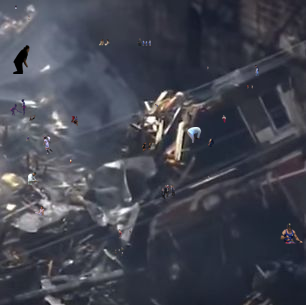Human: (12, 45, 30, 74), (26, 135, 53, 154), (280, 223, 303, 244), (28, 171, 54, 185), (114, 247, 148, 256), (10, 99, 26, 116), (187, 127, 203, 143), (161, 184, 177, 199), (63, 116, 78, 127), (137, 38, 151, 46), (35, 206, 45, 216), (142, 142, 151, 152), (99, 39, 110, 46), (208, 137, 214, 147), (29, 113, 36, 121), (255, 65, 259, 76), (118, 229, 122, 239), (207, 65, 213, 71), (222, 115, 226, 123), (247, 85, 253, 89), (90, 225, 94, 230), (206, 176, 210, 180), (129, 229, 132, 234), (70, 159, 72, 164), (15, 5, 17, 10), (28, 15, 30, 20), (155, 104, 158, 107)
